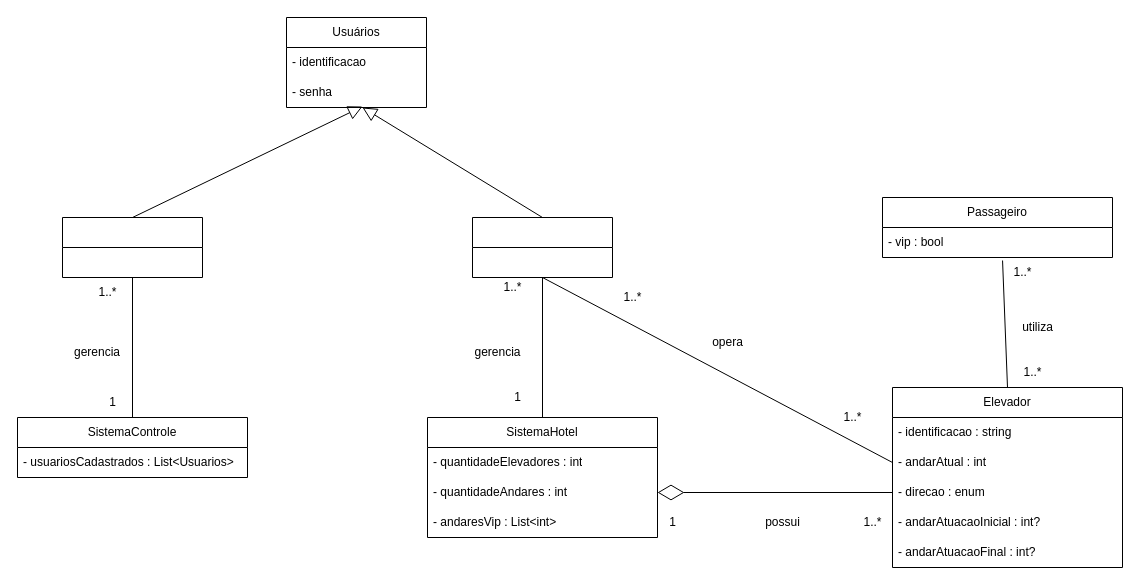
The diagram is 1140 pixels wide and 585 high, and some of its shapes have lost their labels. Here are the shapes that lost their labels. From the top down, the centre of each, then its label:
At [132,247]: "Master".
At [542,247]: "Controlador".
